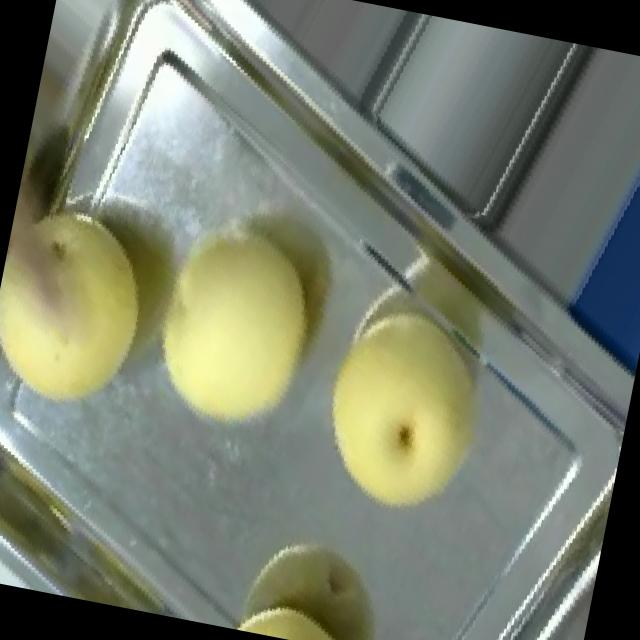Fruit: (276, 265, 536, 555), (112, 185, 364, 469), (0, 174, 181, 441), (198, 569, 401, 640)
